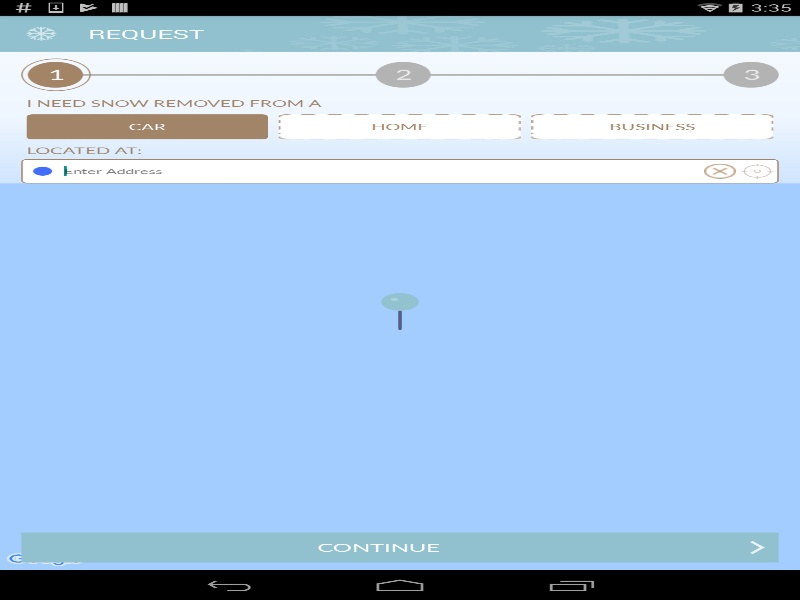Button: (21, 532, 778, 562), (26, 114, 268, 139), (278, 114, 520, 139), (531, 114, 773, 139)
Input: (64, 161, 698, 180)
